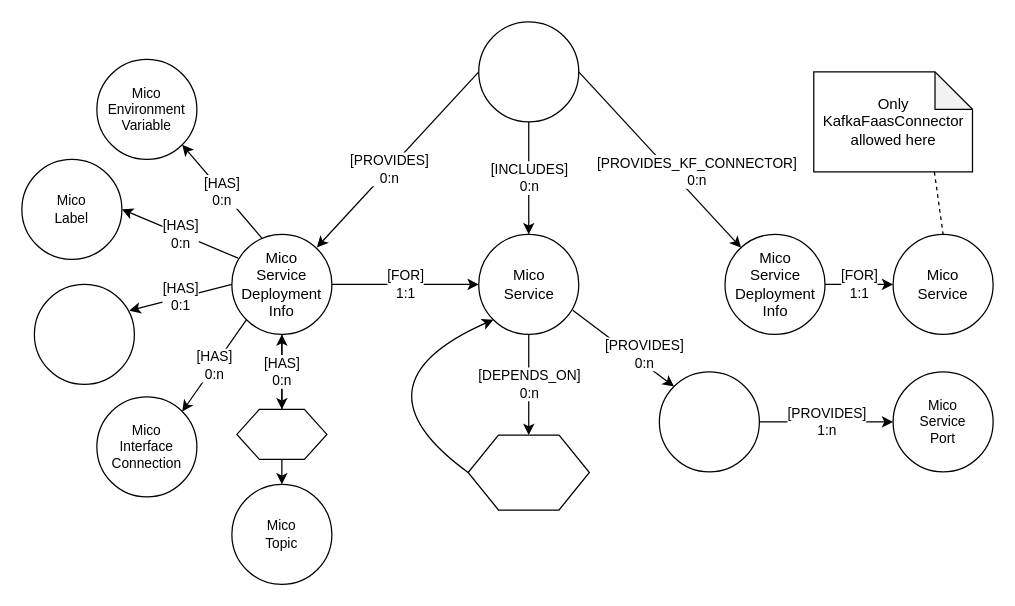
The diagram is 1015 pixels wide and 606 high, and some of its shapes have lost their labels. The shapes that lost their labels are listed below. From the top down, each one's centre as x and y in pixels, then its label:
(528,71): Mico Application
(83,333): Kubernetes Deployment Info
(281,433): Mico Topic Role
(708,421): Mico Service Interface
(528,472): Mico Service Dependency
